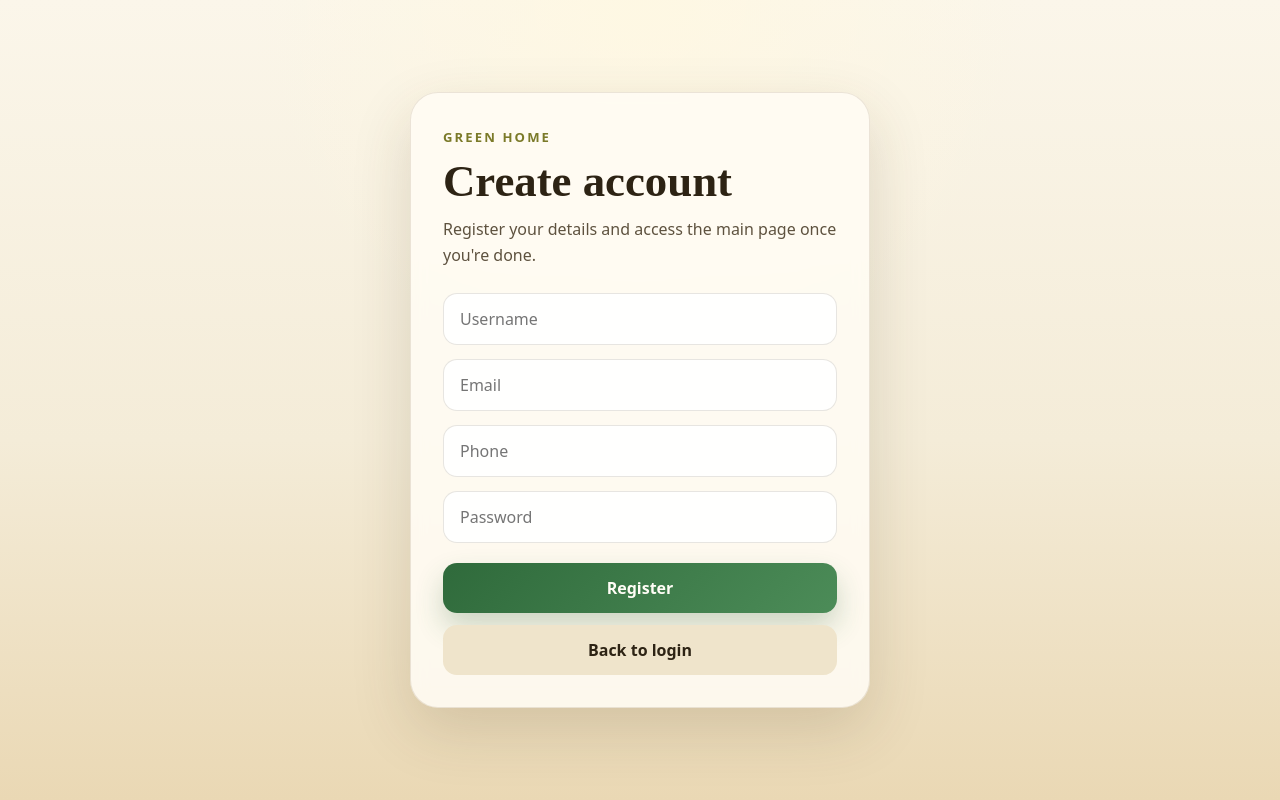
Test: Register › shows network error when fetch throws
Click the button "Register": (640, 588) [443,563,837,613]
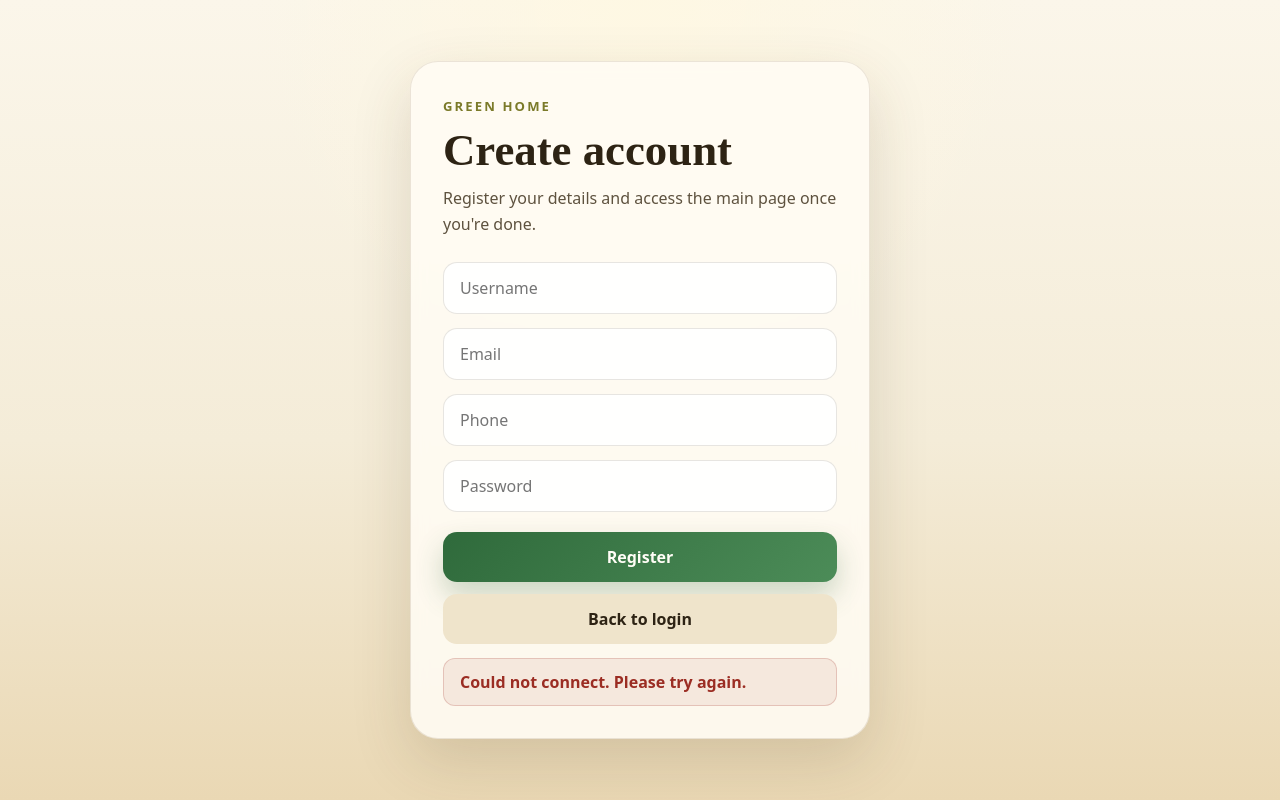
Expected: the text "Could not connect. Please try again." is shown, [443,658,837,706]
